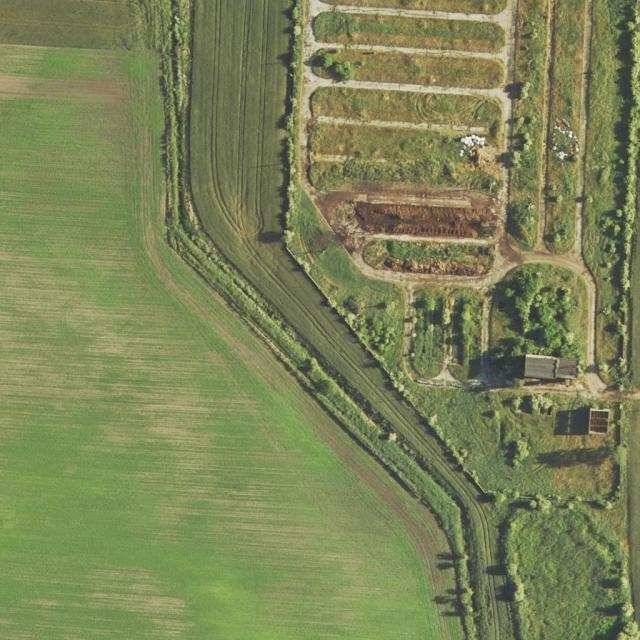building: (522, 352, 582, 380)
greenland: (491, 268, 593, 381)
unmetalled_road: (309, 187, 498, 293), (402, 285, 497, 393), (499, 377, 590, 396)
